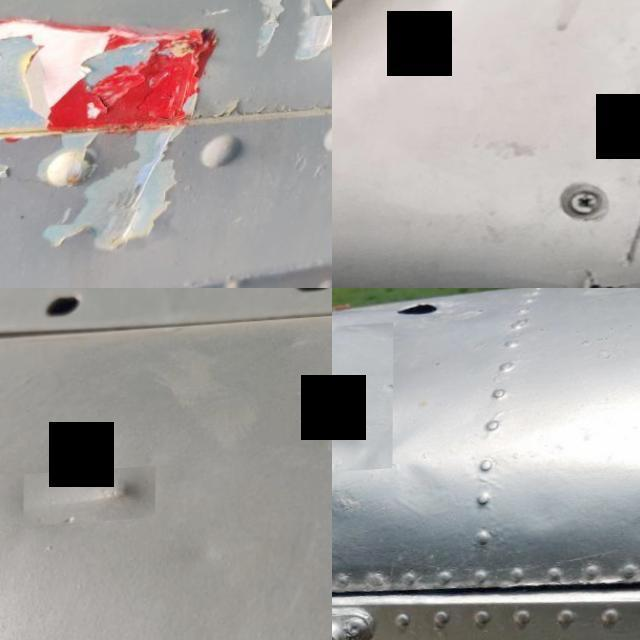Crack: (332, 0, 418, 63), (568, 274, 640, 288)
Dent: (332, 327, 393, 482), (24, 470, 156, 530), (62, 427, 109, 472), (332, 487, 358, 564)
